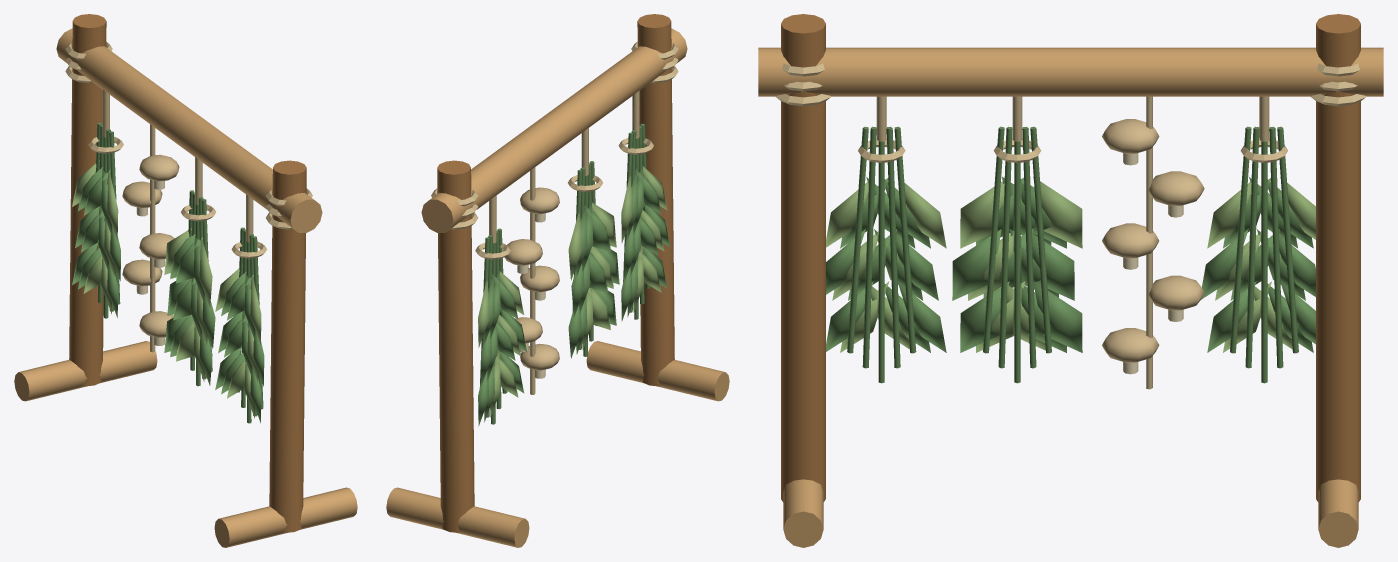
File: SM_HerbDryingRack.fbx
3 renders of one model, left to right at view 1: azimuth 30°, elevation 25°; view 2: azimuth 150°, elevation 25°; view 3: azimuth 270°, elevation 25°, orthographic. The views are drawn at different scales.
Parts seen in each view (by area): view 1: SM_HerbDryingRack; view 2: SM_HerbDryingRack; view 3: SM_HerbDryingRack.
Boxes of the visible parts, bbox=[...] form: SM_HerbDryingRack: bbox=[14, 14, 357, 547]; SM_HerbDryingRack: bbox=[386, 14, 729, 547]; SM_HerbDryingRack: bbox=[758, 14, 1383, 547].
Bounding box in the file's own units: 0.48 × 1.52 × 1.3.
